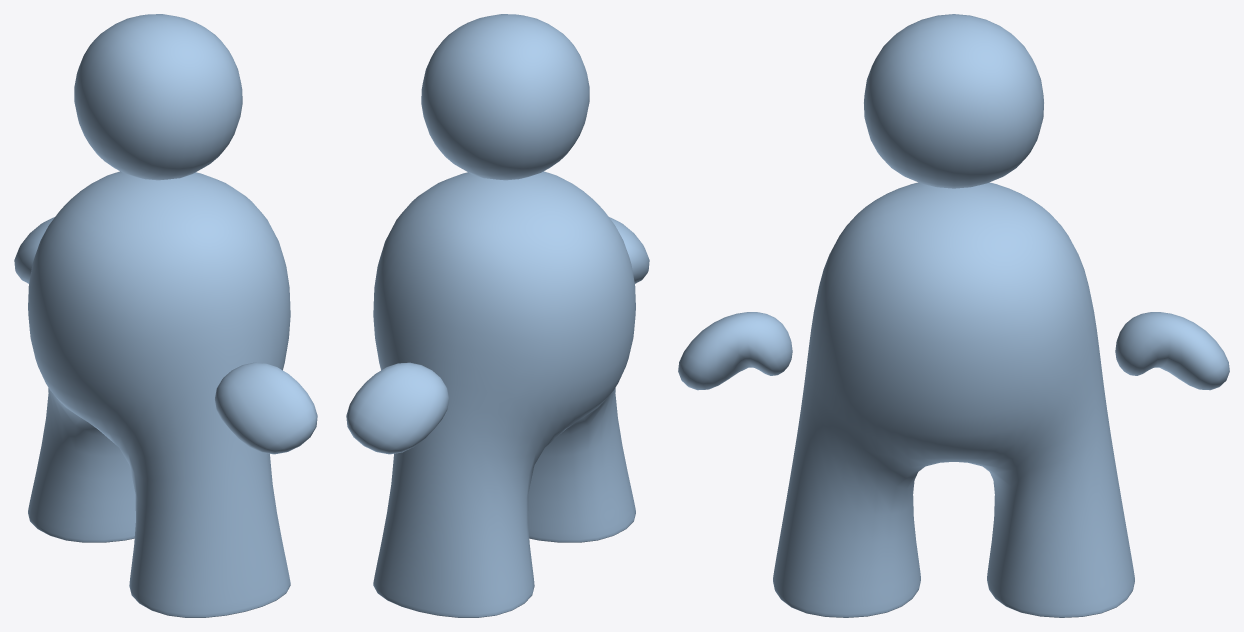
The model's file is Player.fbx.
3 views of the same model, side by side, from view 1: azimuth 30°, elevation 25°; view 2: azimuth 150°, elevation 25°; view 3: azimuth 270°, elevation 25° (orthographic). The views are drawn at different scales.
Parts seen in each view (by area): view 1: Body, Head, Hands; view 2: Body, Head, Hands; view 3: Body, Head, Hands.
Part boxes in pixels (left/top/right/bottom): Body: left=28, top=171, right=290, bottom=617; Head: left=74, top=14, right=242, bottom=180; Hands: left=14, top=217, right=317, bottom=454; Body: left=373, top=171, right=635, bottom=617; Head: left=421, top=14, right=589, bottom=180; Hands: left=346, top=217, right=649, bottom=454; Body: left=773, top=182, right=1134, bottom=617; Head: left=864, top=14, right=1043, bottom=188; Hands: left=678, top=312, right=1229, bottom=390.
Bounding box in the file's own units: 87.89 × 196 × 176.
